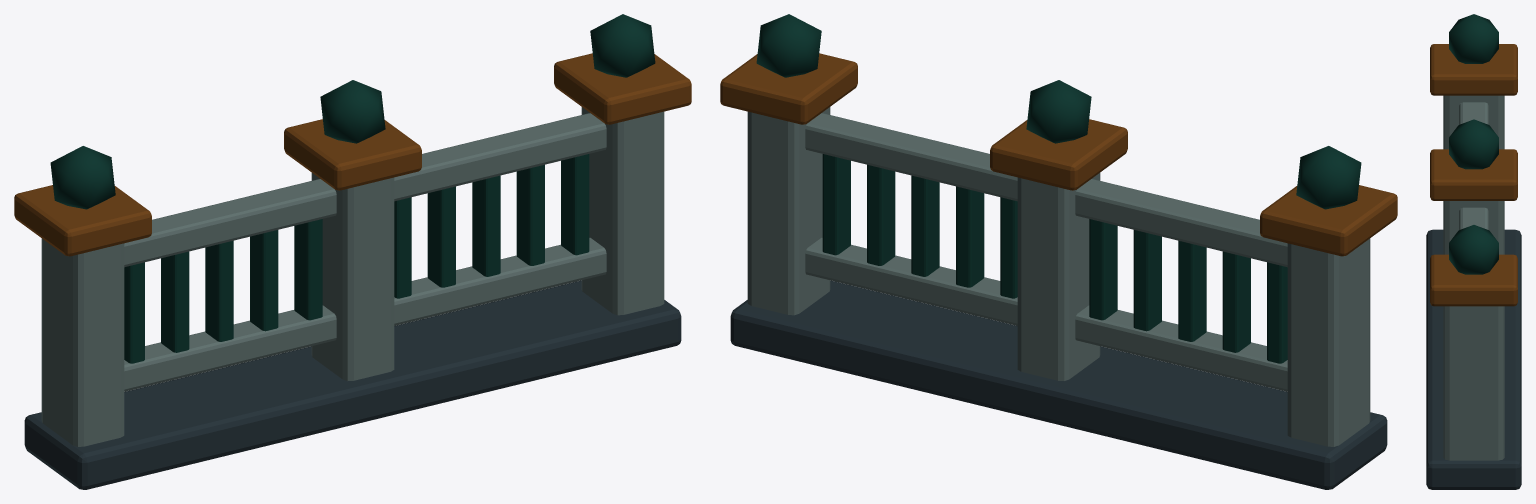
The model's file is SM_JA_Balustrade.fbx.
3 renders of one model, left to right at view 1: azimuth 30°, elevation 25°; view 2: azimuth 150°, elevation 25°; view 3: azimuth 270°, elevation 25°, orthographic. The views are drawn at different scales.
Parts seen in each view (by area): view 1: SM_JA_Balustrade; view 2: SM_JA_Balustrade; view 3: SM_JA_Balustrade.
Boxes of the visible parts, x1,y1,x2,y2 form: SM_JA_Balustrade: (14,14,691,489); SM_JA_Balustrade: (720,14,1397,489); SM_JA_Balustrade: (1426,14,1521,489).
Size of the model in its own units: 3.95 by 0.65 by 1.92.
